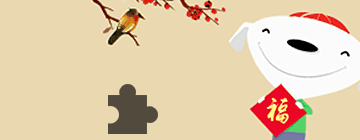target: (108, 84, 158, 135)
